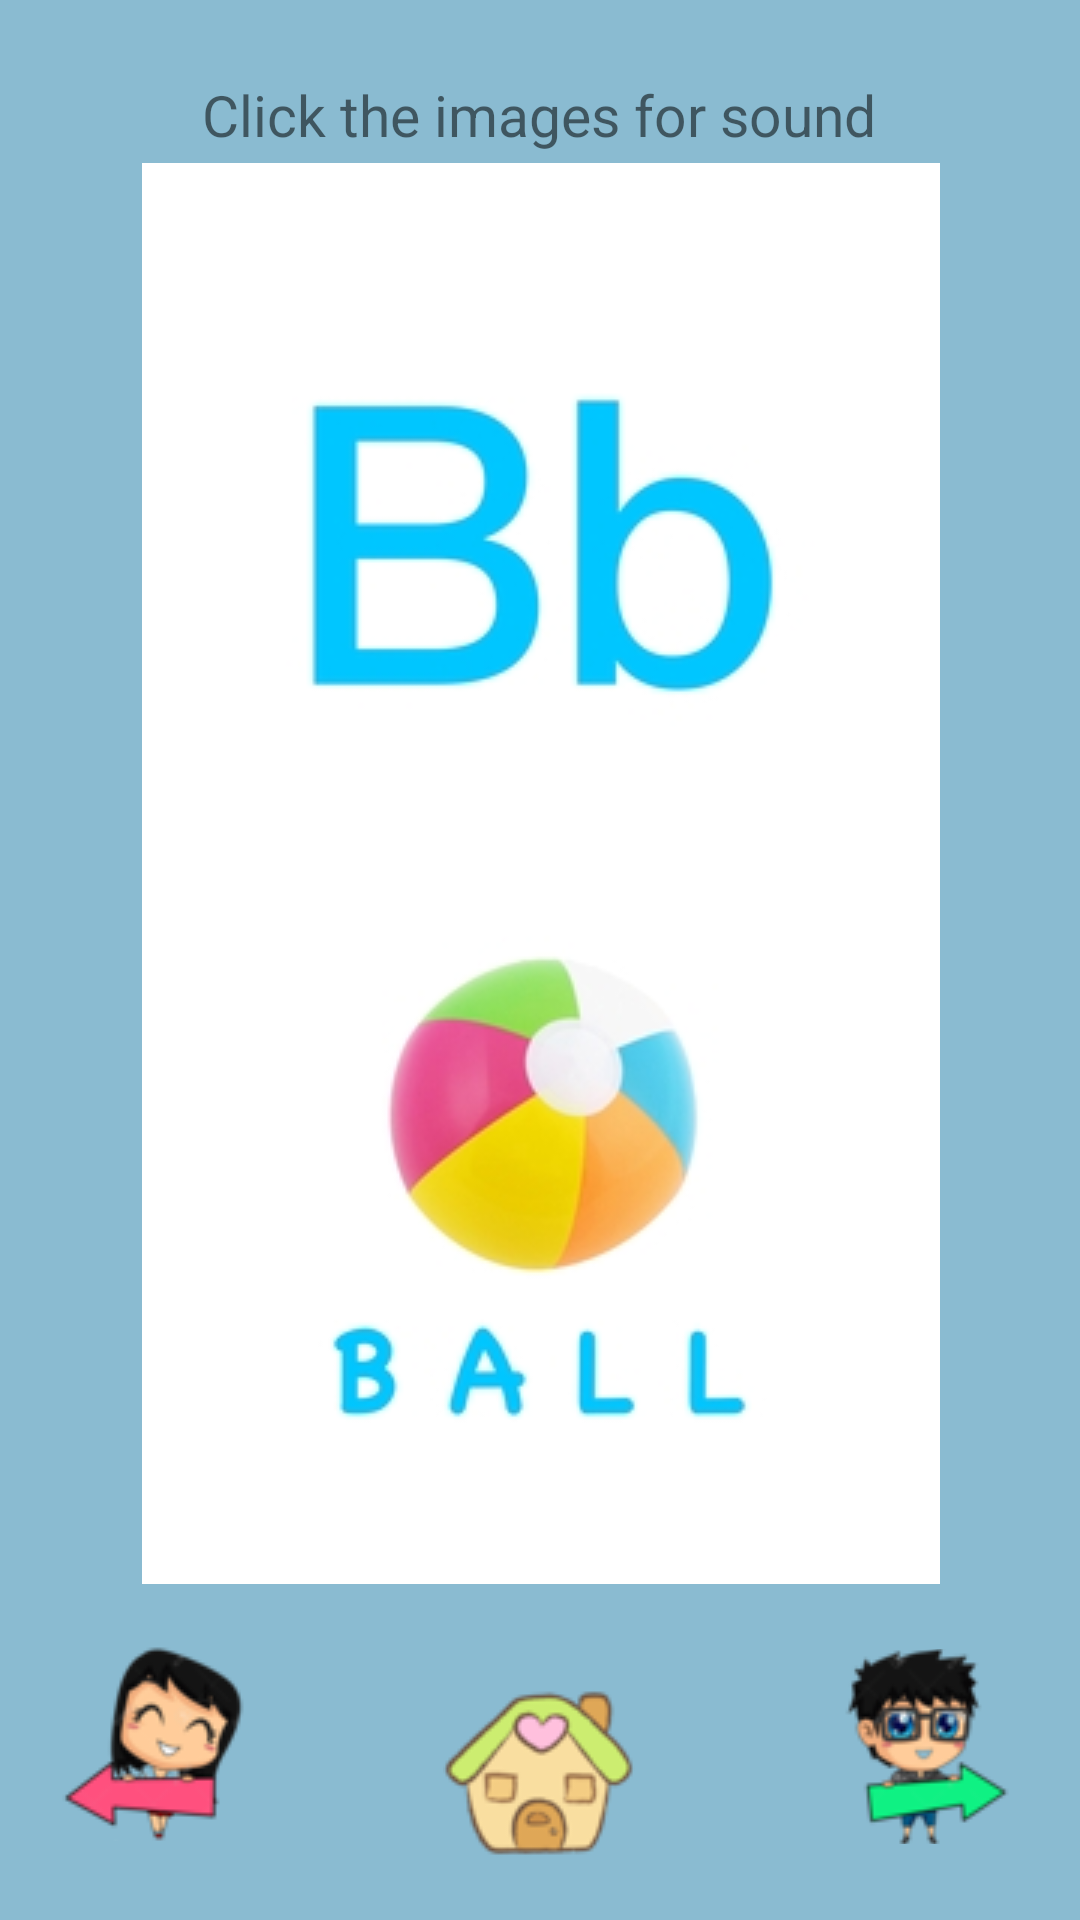

Point at icon controls on the screen. Image size 1080×1920, points as [x,y].
home: [539,1773]
next: [927,1746]
prev: [154,1744]
